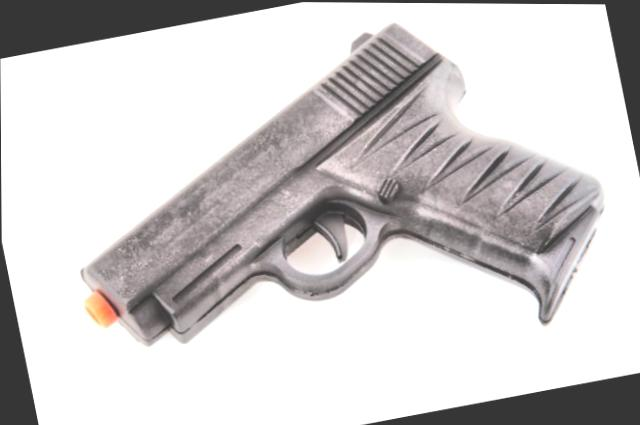pistol: (25, 0, 630, 422)
